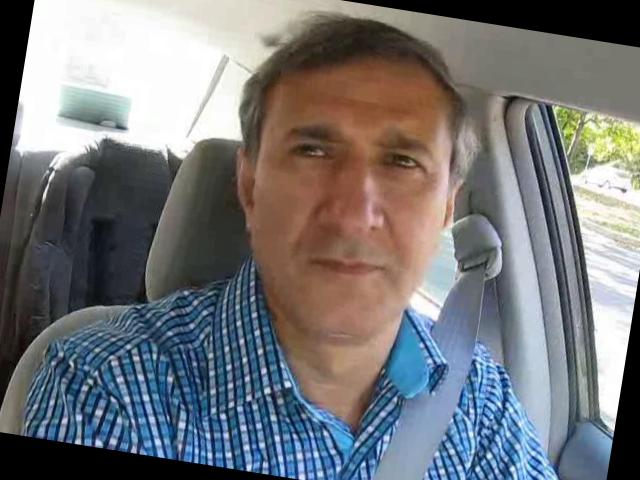eye_open: (376, 147, 433, 182), (281, 136, 337, 170)
face: (232, 99, 461, 352)
